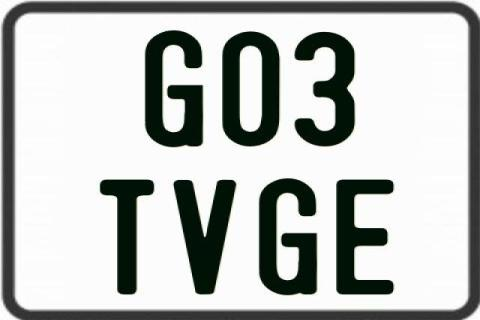0: (292, 31, 358, 148), (219, 29, 280, 148)
E: (336, 180, 396, 298)
G: (146, 29, 208, 151), (257, 178, 320, 296)
T: (98, 180, 152, 296)
V: (173, 180, 240, 295)
